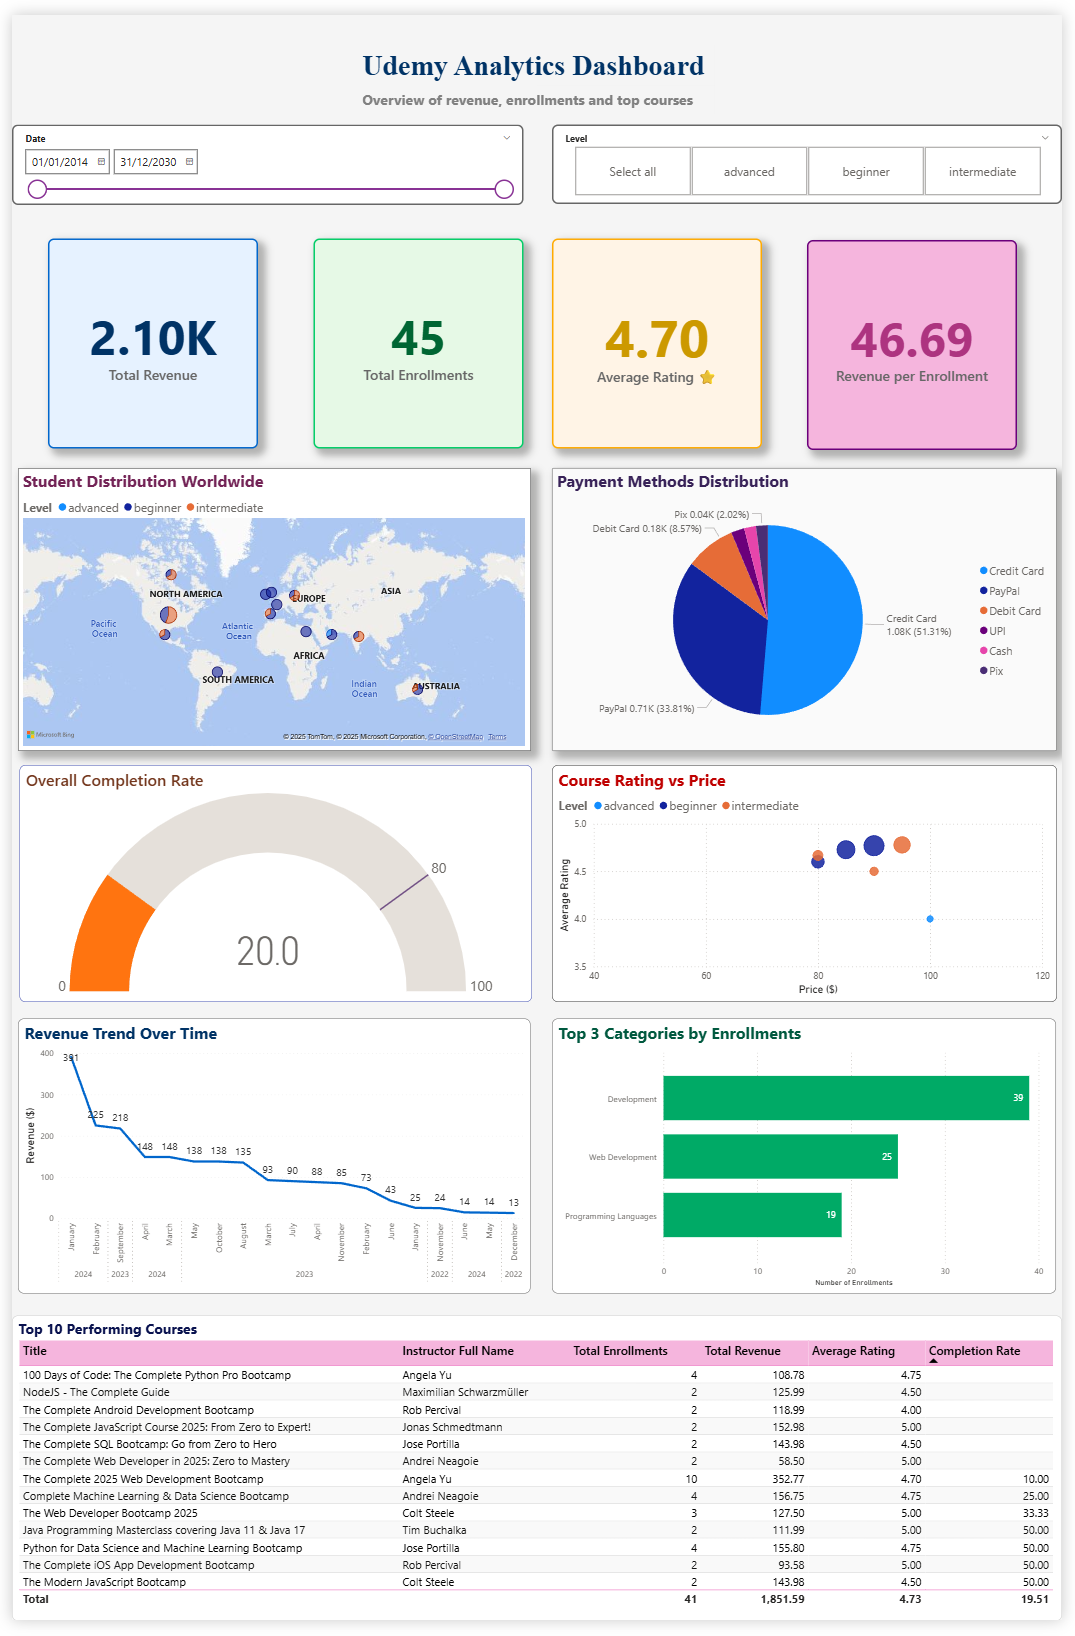

This screenshot's page, from the dashboard's own definition file:
{"tool":"powerbi","page":{"name":"Executive Overview","canvas":[1400,2100],"ordinal":0},"visuals":[{"type":"card","fields":{"Values":["FactPayment.Total Revenue"]},"box":[48.9,258.9,280,280],"z":0},{"type":"card","fields":{"Values":["FactEnrollment.Total Enrollments"]},"box":[402.2,258.9,280,280],"z":1000},{"type":"card","fields":{"Values":["FactReview.Average Rating"]},"box":[720,258.9,280,280],"z":2000},{"type":"lineChart","title":"Revenue Trend Over Time","fields":{"Category":["DimDate.Year","DimDate.MonthName"],"Y":["FactPayment.Total Revenue"]},"box":[8.9,1297,683.3,366.7],"z":3000},{"type":"tableEx","title":"Top 10 Performing Courses","fields":{"Values":["DimCourse.Title","DimInstructor.Instructor Full Name","FactEnrollment.Total Enrollments","FactPayment.Total Revenue","FactReview.Average Rating","FactEnrollment.Completion Rate"]},"box":[0,1693,1400,407],"z":4000},{"type":"clusteredBarChart","title":"Top 3 Categories by Enrollments","fields":{"Category":["DimCategory.CategoryName"],"Y":["FactEnrollment.Total Enrollments"]},"box":[720,1297,672.2,366.7],"z":5000},{"type":"pieChart","title":"Payment Methods Distribution","fields":{"Category":["FactPayment.PaymentMethod"],"Y":["FactPayment.Amount"]},"box":[720,563.8,672.5,377.5],"z":6000},{"type":"slicer","fields":{"Values":["DimDate.FullDate"]},"box":[0,106,682,107],"z":7000},{"type":"slicer","fields":{"Values":["DimCourse.Level"]},"box":[720,106,680,106],"z":8000},{"type":"textbox","box":[462.2,0,474.4,54.4],"z":9000},{"type":"textbox","box":[462.2,54.4,474.4,37.8],"z":10000},{"type":"map","title":"Student Distribution Worldwide","fields":{"Category":["DimStudent.Country"],"Size":["FactEnrollment.Total Enrollments"],"Series":["DimCourse.Level"]},"box":[8.8,563.8,683.8,377.5],"z":11000},{"type":"gauge","title":"Overall Completion Rate","fields":{"Y":["FactEnrollment.Completion Rate"]},"box":[9,960,683,316],"z":12000},{"type":"card","fields":{"Values":["FactPayment.Revenue per Enrollment"]},"box":[1060,259,280,280],"z":13000},{"type":"scatterChart","title":"Course Rating vs Price","fields":{"X":["DimCourse.Price"],"Y":["FactReview.Average Rating"],"Series":["DimCourse.Level"],"Size":["FactEnrollment.Total Enrollments"]},"box":[720,960,673,316],"z":14000}]}

Visuals, with their boxes in screenshot pixels (x1, y1, x2, y2), scaled from the page's 1400x2100 canvas onto the 1075x1636 screenshot:
card - FactPayment.Total Revenue: <region>38, 202, 253, 420</region>
card - FactEnrollment.Total Enrollments: <region>309, 202, 524, 420</region>
card - FactReview.Average Rating: <region>553, 202, 768, 420</region>
"Revenue Trend Over Time" lineChart: <region>7, 1010, 532, 1296</region>
"Top 10 Performing Courses" tableEx: <region>0, 1319, 1074, 1635</region>
"Top 3 Categories by Enrollments" clusteredBarChart: <region>553, 1010, 1069, 1296</region>
"Payment Methods Distribution" pieChart: <region>553, 439, 1069, 733</region>
slicer - DimDate.FullDate: <region>0, 83, 524, 166</region>
slicer - DimCourse.Level: <region>553, 83, 1074, 165</region>
textbox: <region>355, 0, 719, 42</region>
textbox: <region>355, 42, 719, 72</region>
"Student Distribution Worldwide" map: <region>7, 439, 532, 733</region>
"Overall Completion Rate" gauge: <region>7, 748, 531, 994</region>
card - FactPayment.Revenue per Enrollment: <region>814, 202, 1029, 420</region>
"Course Rating vs Price" scatterChart: <region>553, 748, 1070, 994</region>
